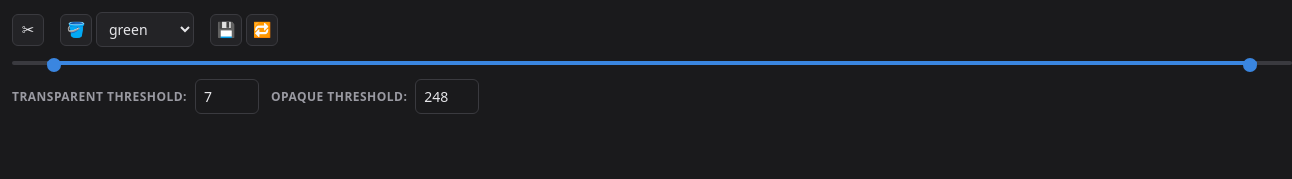
Test: AlphaControls — 💾 › from the matte, with no MOV yet: POST, then an <a> click on the MOV's URL, then the transparent view
The width and height of the screenshot is (1292, 179).
Click the button named "Download the transparent video (MOV)" at (226, 30), box 210,14 -> 242,46
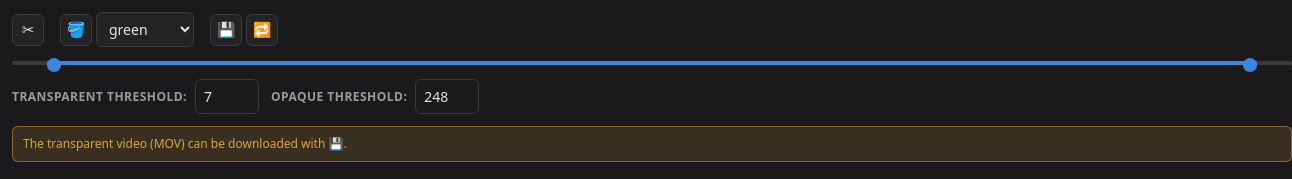
Check: the text "The transparent video (MOV) can be downloaded with 💾." is shown, box 12,126 -> 1291,162
